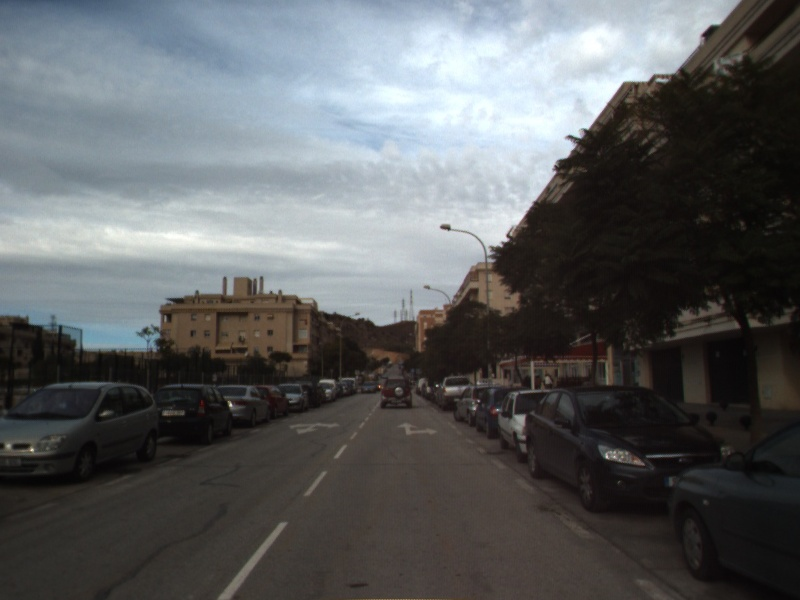STRAIGHT_RIGHT: (395, 420, 440, 437)
